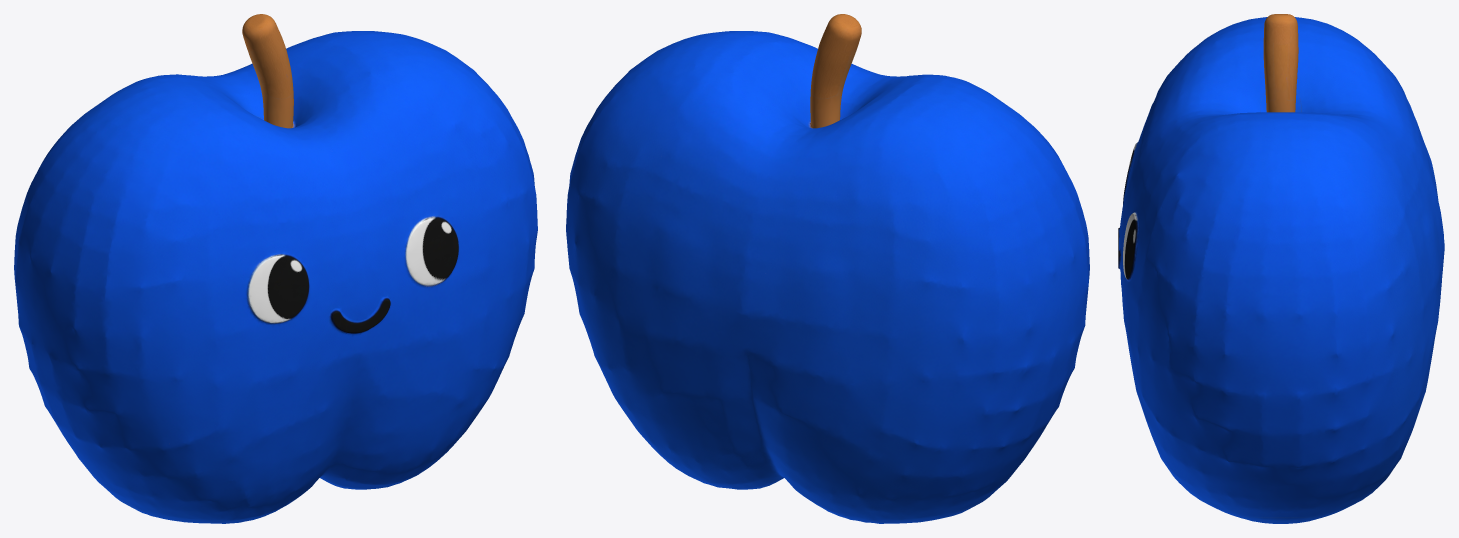
File: Meshy_AI_Blueberry_Apple_1021065456_texture.glb
3 renders of one model, left to right at view 1: azimuth 30°, elevation 25°; view 2: azimuth 150°, elevation 25°; view 3: azimuth 270°, elevation 25°, orthographic. The views are drawn at different scales.
Bounding box in the file's own units: 1.9 × 1.78 × 1.19.
1 material, 1 textured.
